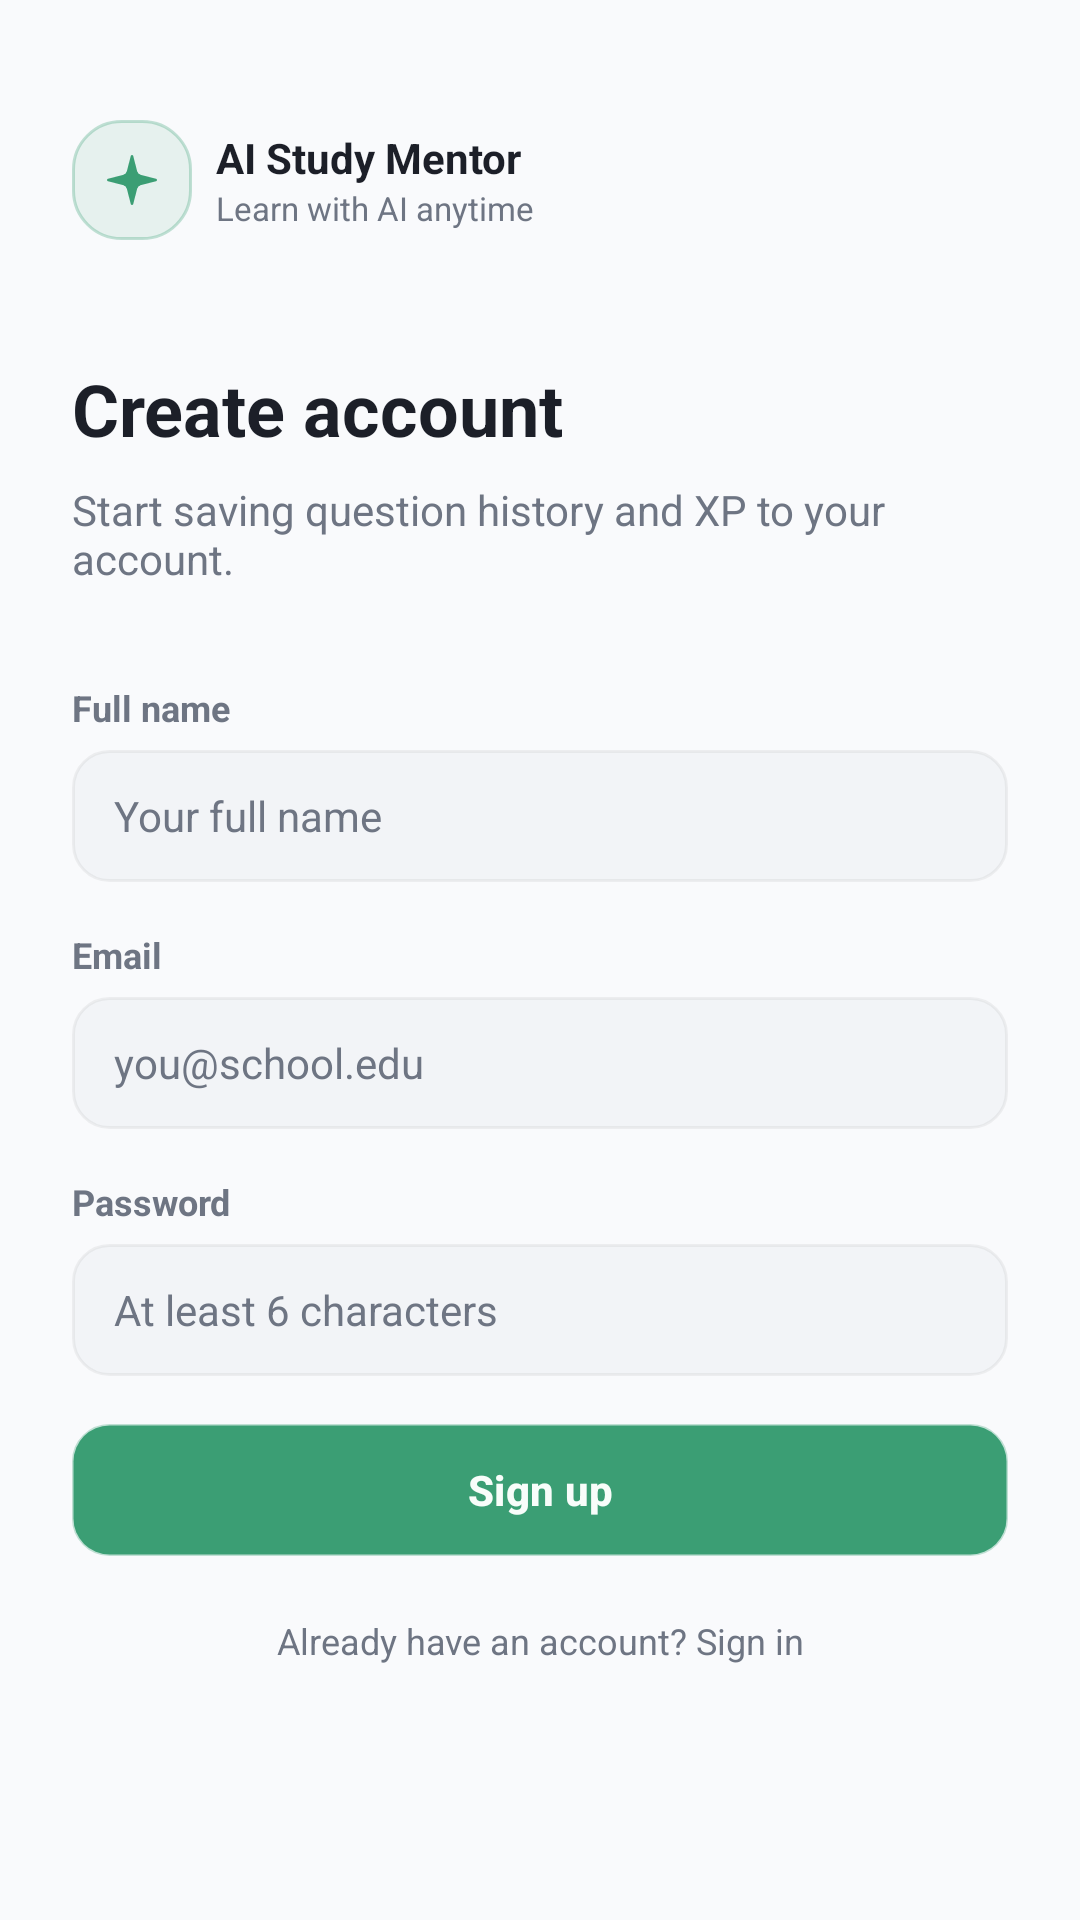

Icon click points for this 1080x1920 phone screenshot, format point (x, y):
sparkles: point (132, 180)
